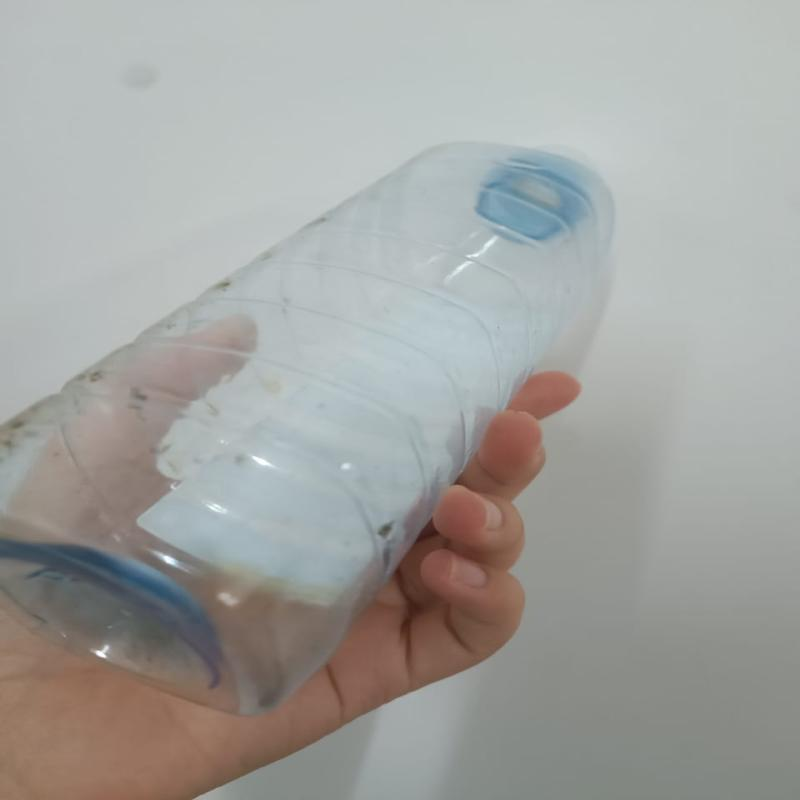botella: (6, 136, 622, 708)
